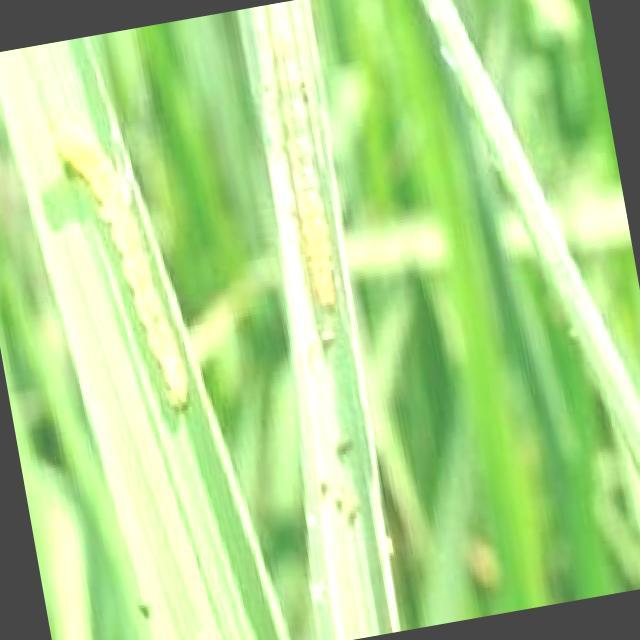leaf folder: (58, 130, 206, 409), (261, 25, 344, 348)
